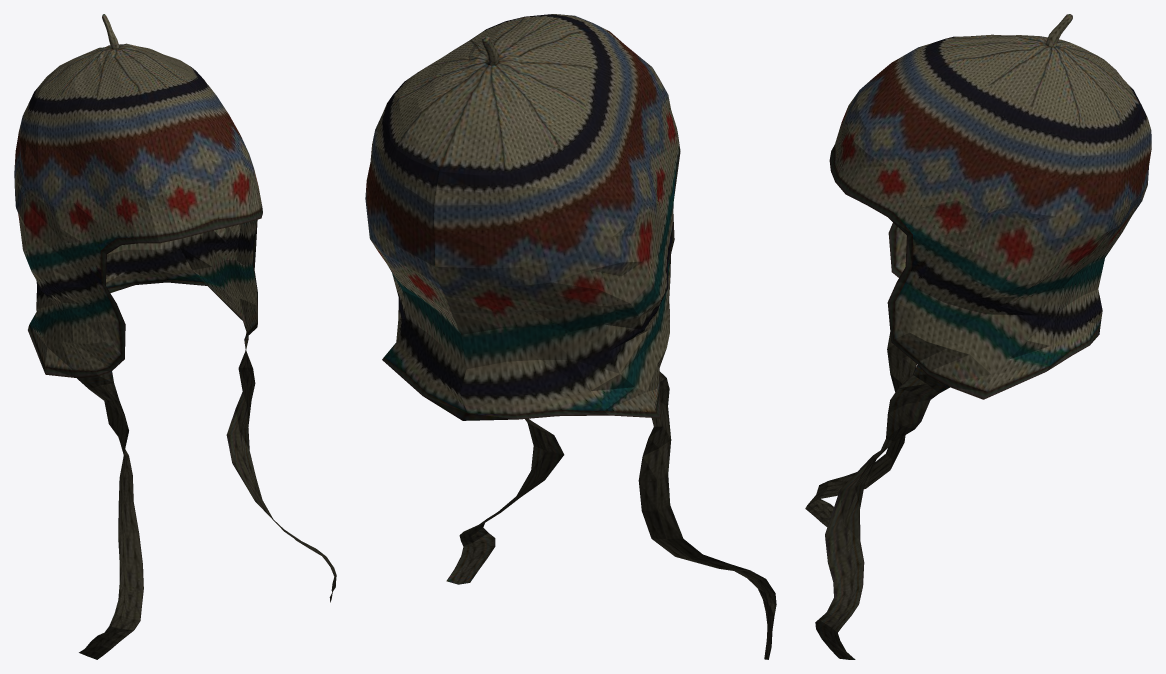
File: mhw_mindfront_sherpa_hat.glb
3 views of the same model, side by side, from view 1: azimuth 30°, elevation 25°; view 2: azimuth 150°, elevation 25°; view 3: azimuth 270°, elevation 25° (orthographic). The views are drawn at different scales.
Parts seen in each view (by area): view 1: mhw_mindfront_sherpa_hat; view 2: mhw_mindfront_sherpa_hat; view 3: mhw_mindfront_sherpa_hat.
Part boxes in pixels (x1,y1,x2,y2): mhw_mindfront_sherpa_hat: [14, 14, 336, 659]; mhw_mindfront_sherpa_hat: [365, 14, 776, 659]; mhw_mindfront_sherpa_hat: [805, 14, 1151, 659].
Size of the model in its own units: 0.2479 by 0.5014 by 0.2705.
1 material, 1 textured.
